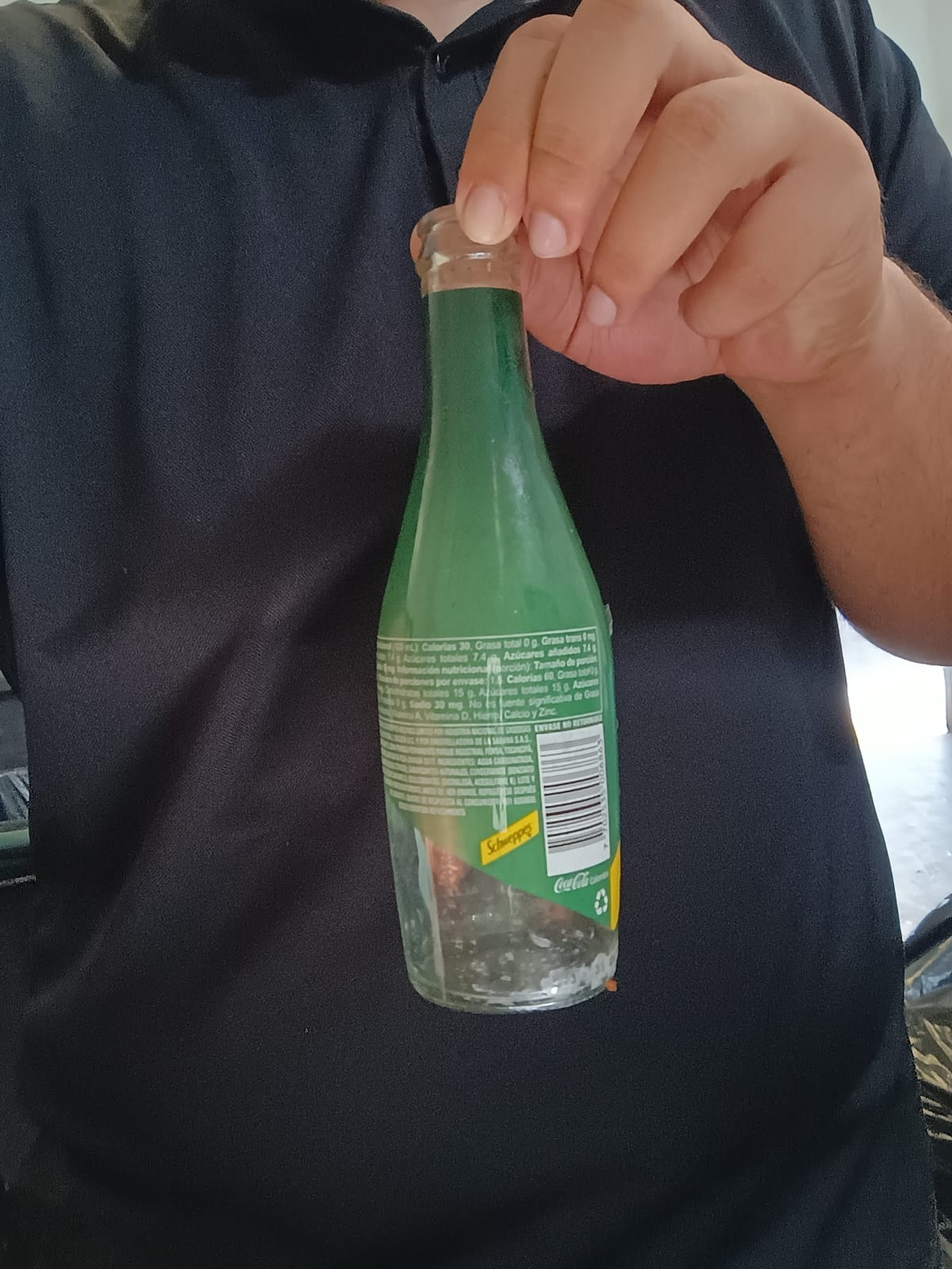Vidrio: (375, 204, 625, 1014)
